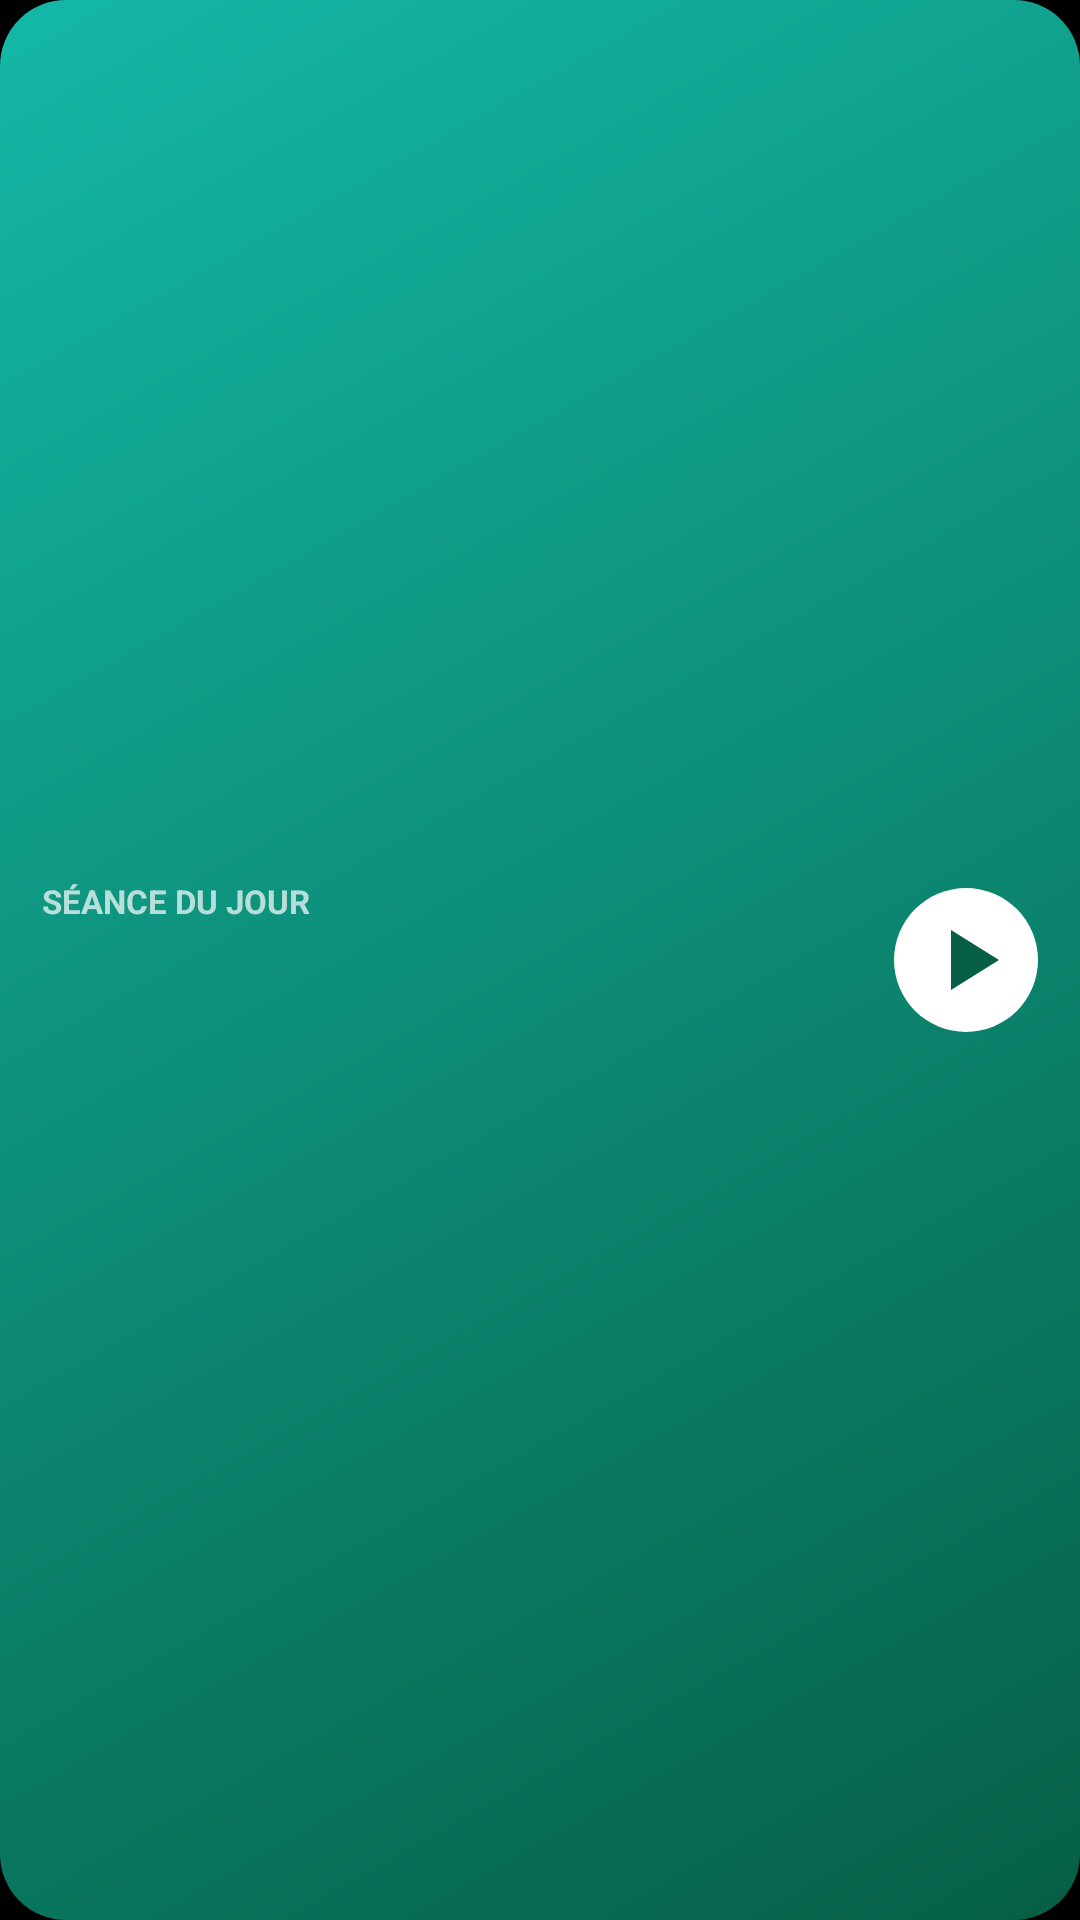

Named icons in this screenshot (1080w x 1920h) and their centers, point (x, y):
Démarrer la séance: point (966, 960)
